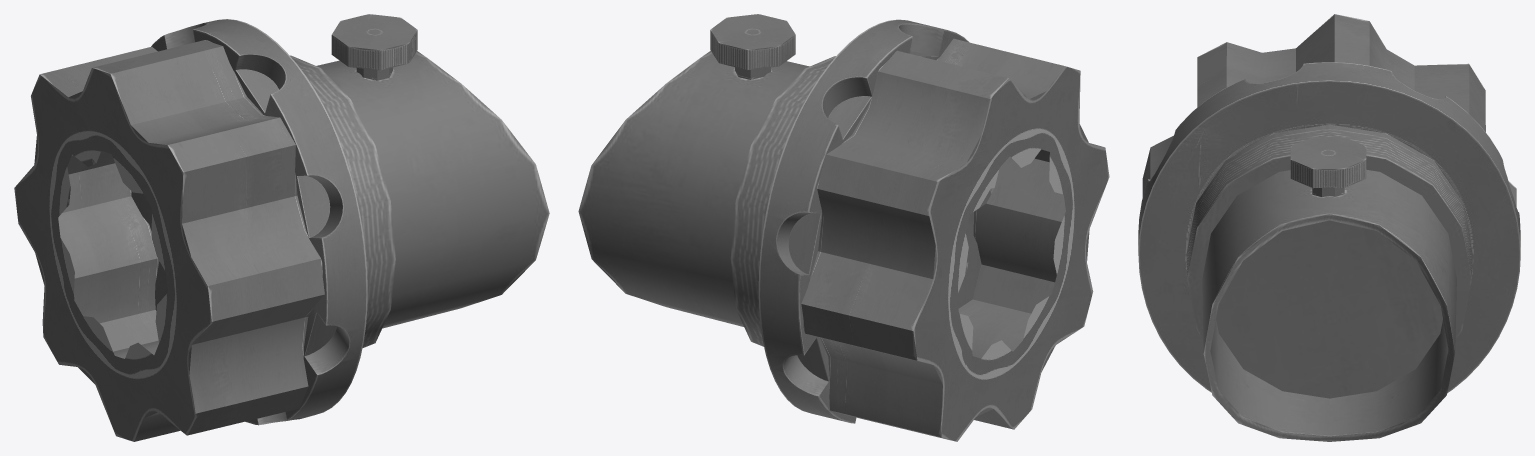
The model's file is guard_12_c_a.glb.
The picture shows the model from 3 angles, left to right: view 1: azimuth 30°, elevation 25°; view 2: azimuth 150°, elevation 25°; view 3: azimuth 270°, elevation 25°; orthographic projection. The views are drawn at different scales.
Visible parts, largest first — view 1: guard_12_c_a_lod0; view 2: guard_12_c_a_lod0; view 3: guard_12_c_a_lod0.
Part boxes in pixels (x1,y1,x2,y2): guard_12_c_a_lod0: (14,14,549,441); guard_12_c_a_lod0: (578,14,1109,441); guard_12_c_a_lod0: (1138,14,1520,441).
Size of what is drawn, in the model's own units: 0.0478 by 0.0452 by 0.0452.
1 material, 1 textured.
